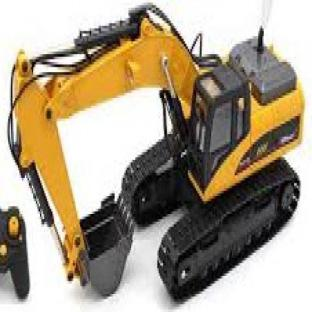ExcavationMachinery: (9, 25, 290, 301)
